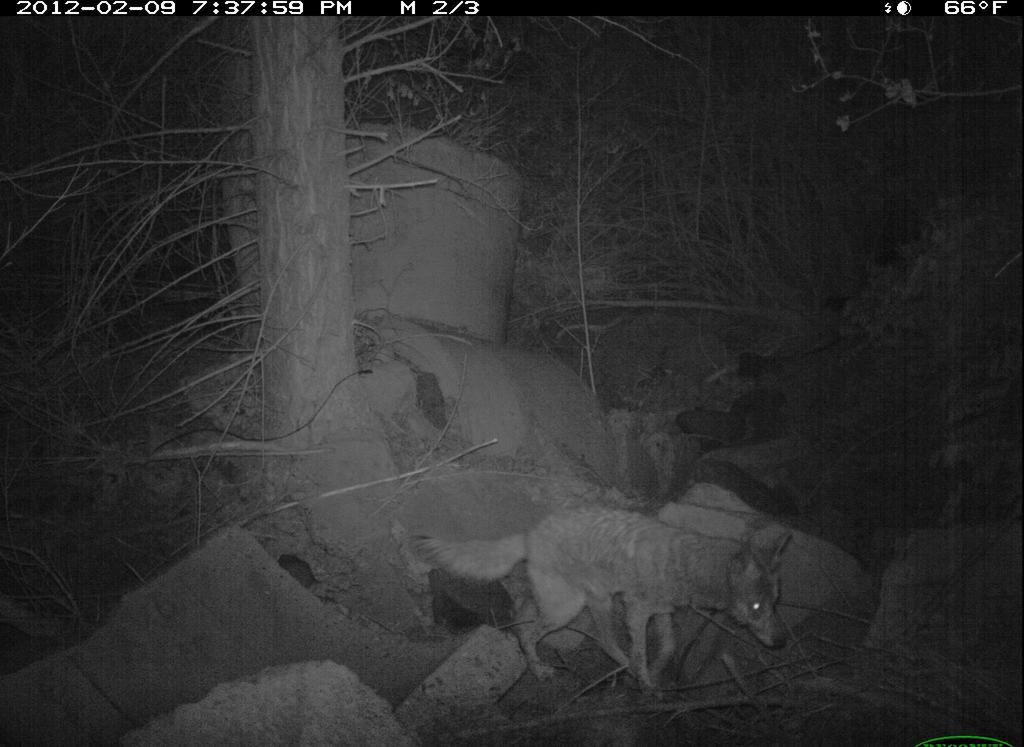coyote: (410, 506, 789, 701)
